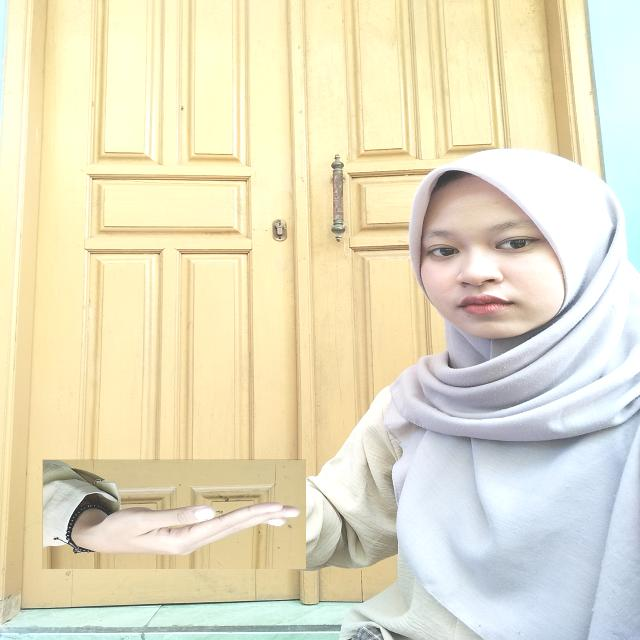adik: (42, 459, 306, 569)
